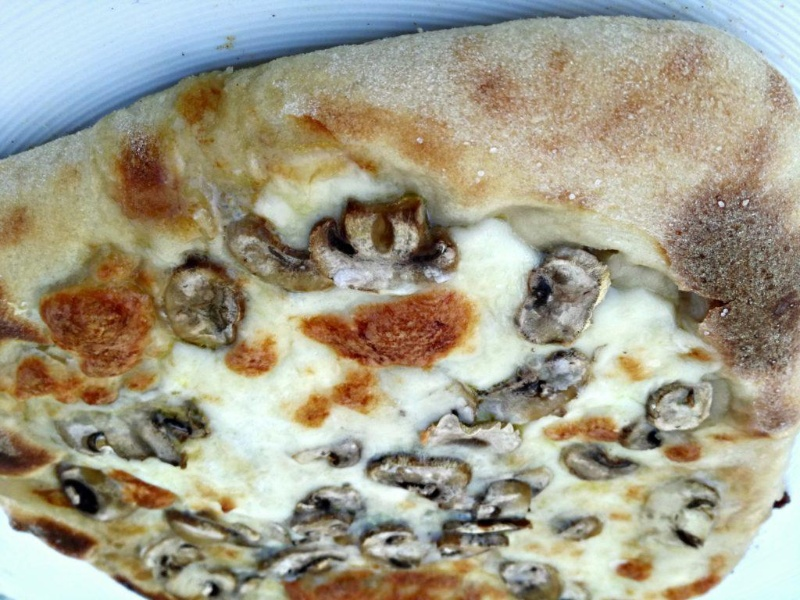champignon: (306, 189, 469, 296), (216, 208, 342, 312), (52, 392, 212, 473), (516, 244, 618, 350), (154, 261, 250, 356), (638, 472, 733, 556), (364, 450, 478, 511), (645, 370, 733, 441), (548, 441, 650, 490)
